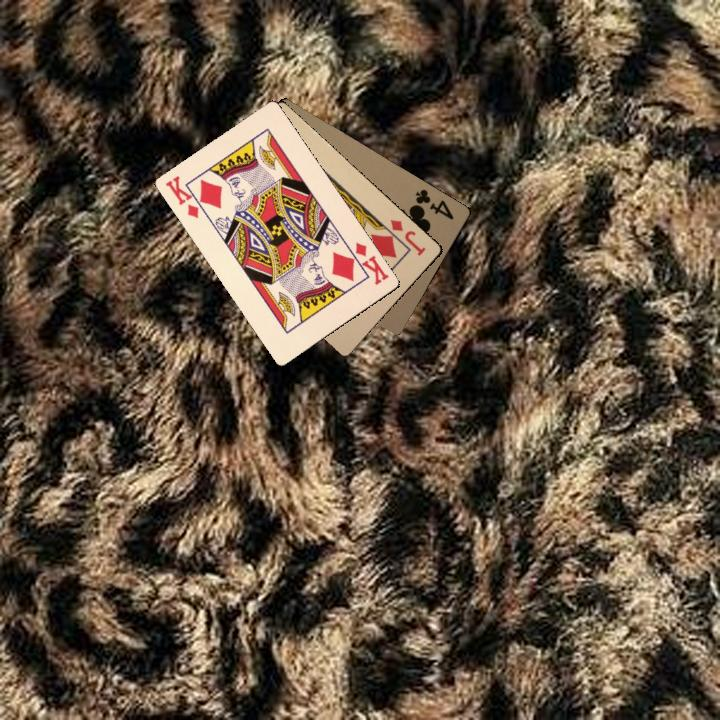4c: (410, 185, 457, 222)
Jd: (387, 215, 428, 258)
Kd: (161, 172, 210, 221), (345, 239, 392, 288)
